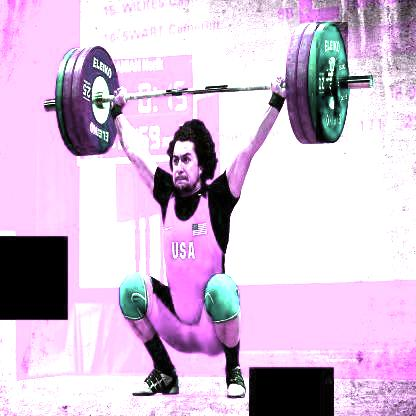barbell: (80, 45, 122, 156), (316, 22, 348, 143)
